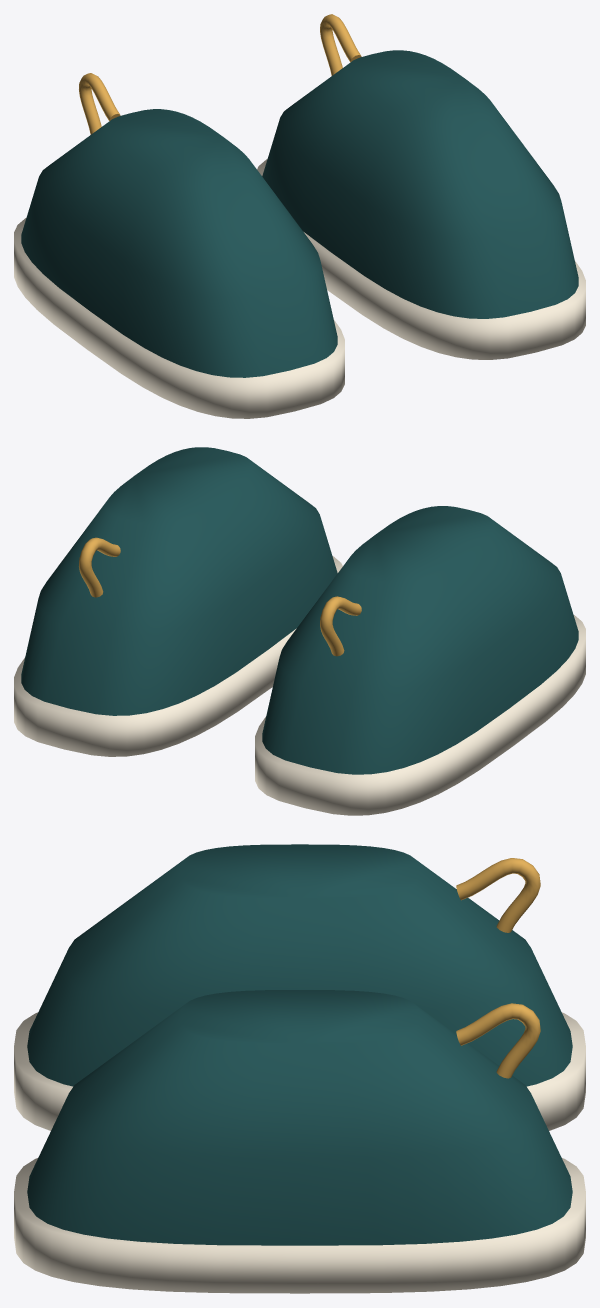
Rendered from ShoePair.fbx.
3 views of the same model, one above another, from view 1: azimuth 30°, elevation 25°; view 2: azimuth 150°, elevation 25°; view 3: azimuth 270°, elevation 25° (orthographic). The views are drawn at different scales.
Parts seen in each view (by area): view 1: Surface_KKTC_CanvasDeep, Surface_KKTC_WarmWhite, Surface_KKTC_Ochre; view 2: Surface_KKTC_CanvasDeep, Surface_KKTC_WarmWhite, Surface_KKTC_Ochre; view 3: Surface_KKTC_CanvasDeep, Surface_KKTC_WarmWhite, Surface_KKTC_Ochre.
Boxes of the visible parts, x1,y1,x2,y2 form: Surface_KKTC_CanvasDeep: (21, 50, 578, 377); Surface_KKTC_WarmWhite: (14, 159, 585, 418); Surface_KKTC_Ochre: (79, 14, 361, 134); Surface_KKTC_CanvasDeep: (21, 447, 578, 774); Surface_KKTC_WarmWhite: (14, 556, 585, 815); Surface_KKTC_Ochre: (79, 537, 361, 656); Surface_KKTC_CanvasDeep: (27, 844, 572, 1245); Surface_KKTC_WarmWhite: (14, 1012, 585, 1293); Surface_KKTC_Ochre: (456, 858, 540, 1078).
Size of the model in its own units: 23 by 9.72 by 21.6.
